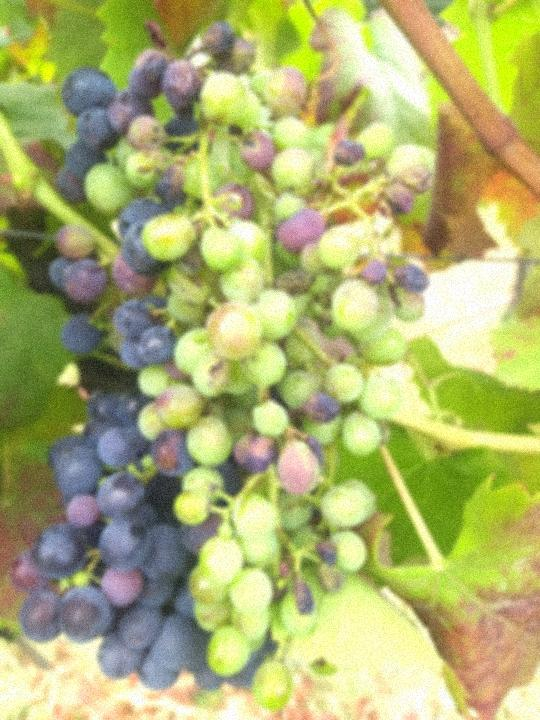grape: (6, 19, 441, 717)
